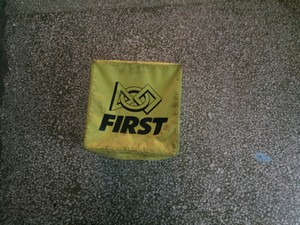cube: (83, 61, 181, 160)
